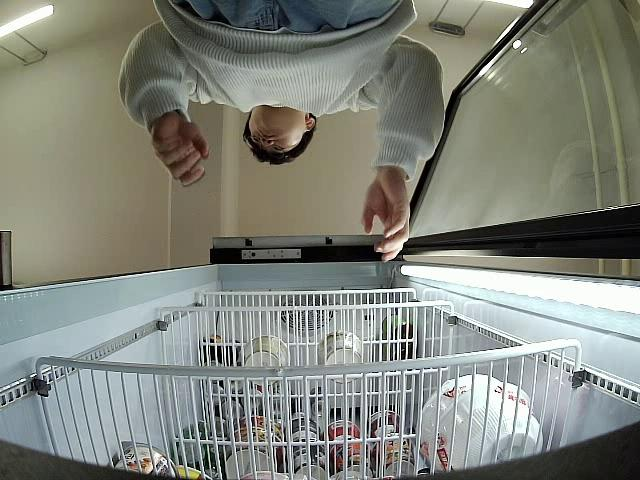00_hand: (360, 172, 411, 264), (151, 113, 209, 186)
